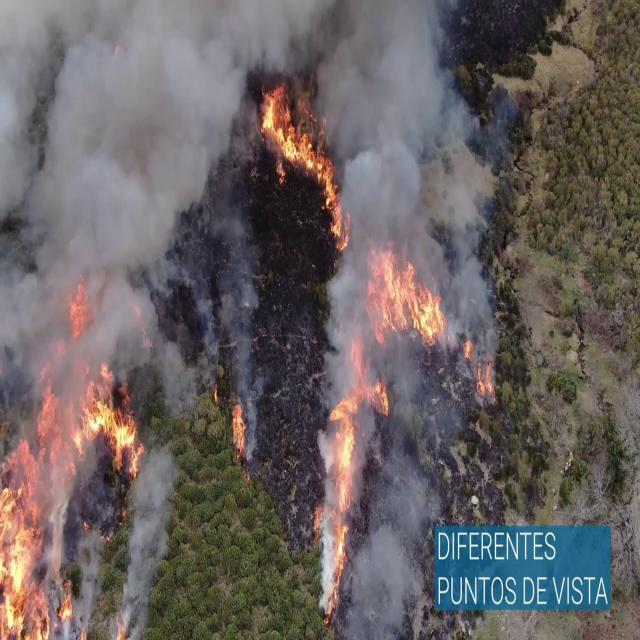Fire: (258, 78, 346, 242), (0, 446, 54, 638), (320, 385, 360, 599), (366, 244, 446, 345), (73, 374, 144, 476), (229, 392, 248, 462)
Smoke: (0, 0, 276, 356), (311, 1, 504, 345)
